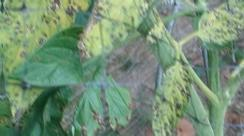Tomato Septoria leaf spot: (0, 0, 92, 125), (75, 0, 157, 79), (145, 63, 196, 136), (189, 0, 244, 53)
